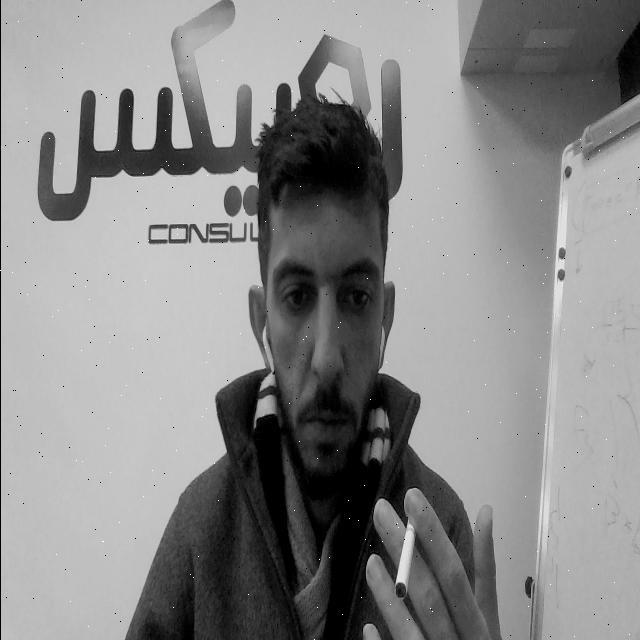face_no_mask: (252, 188, 396, 492)
